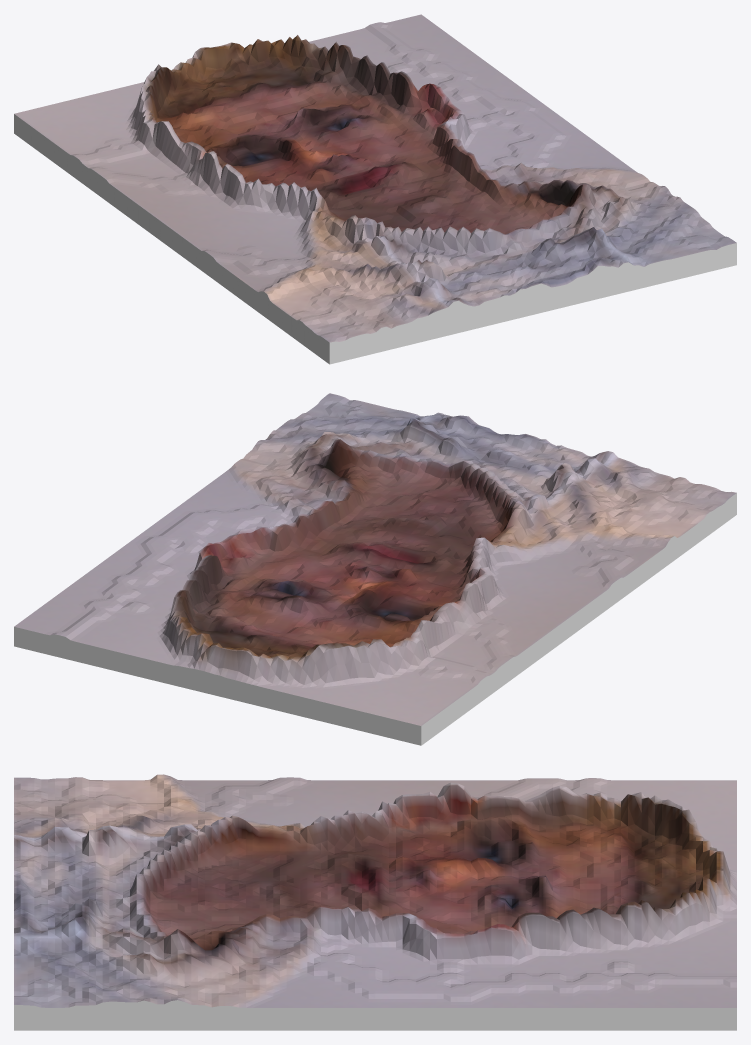
3 views of the same model, one above another, from view 1: azimuth 30°, elevation 25°; view 2: azimuth 150°, elevation 25°; view 3: azimuth 270°, elevation 25° (orthographic). The views are drawn at different scales.
Parts seen in each view (by area): view 1: mesh_id6, mesh_id5; view 2: mesh_id6, mesh_id5; view 3: mesh_id6, mesh_id5.
Boxes of the visible parts, x1=… form: mesh_id6: x1=14, y1=14, x2=736, y2=342; mesh_id5: x1=14, y1=114, x2=736, y2=364; mesh_id6: x1=14, y1=393, x2=736, y2=725; mesh_id5: x1=14, y1=493, x2=736, y2=745; mesh_id6: x1=14, y1=774, x2=736, y2=1007; mesh_id5: x1=14, y1=1000, x2=736, y2=1030.
Size of the model in its own units: 14.14 by 1.81 by 18.98.
2 materials, 1 textured.
